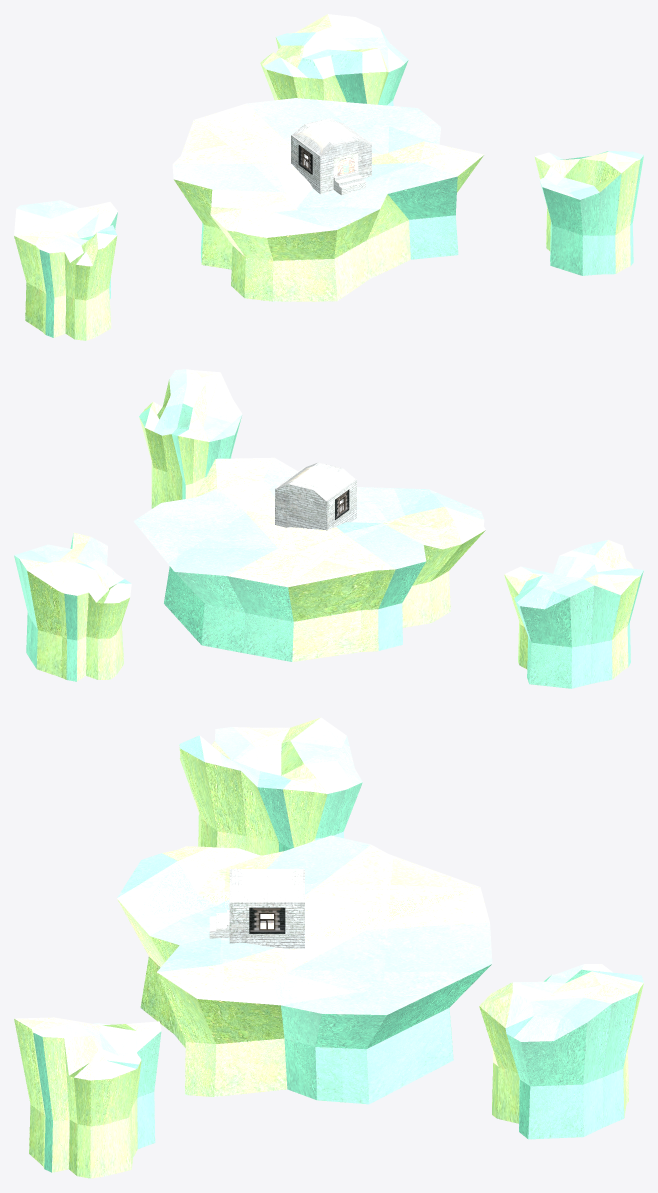
File: main.glb
The picture shows the model from 3 angles, top to bottom: view 1: azimuth 30°, elevation 25°; view 2: azimuth 150°, elevation 25°; view 3: azimuth 270°, elevation 25°; orthographic projection. The views are drawn at different scales.
Visible parts, largest first — view 1: main_grass, main_grass.001, main_grass.002, main_room; view 2: main_grass, main_grass.001, main_grass.002, main_room; view 3: main_grass, main_grass.001, main_grass.002, main_room.
Boxes of the visible parts, bbox=[...] form: main_grass: bbox=[172, 98, 484, 301]; main_grass.001: bbox=[14, 14, 408, 340]; main_grass.002: bbox=[535, 151, 643, 275]; main_room: bbox=[291, 118, 371, 195]; main_grass: bbox=[133, 457, 485, 661]; main_grass.001: bbox=[14, 532, 643, 688]; main_grass.002: bbox=[139, 369, 242, 508]; main_room: bbox=[275, 462, 356, 530]; main_grass: bbox=[117, 835, 492, 1104]; main_grass.001: bbox=[179, 717, 643, 1139]; main_grass.002: bbox=[14, 1017, 161, 1178]; main_room: bbox=[209, 869, 304, 948].
Size of the model in its own units: 448 by 96.52 by 348.
8 materials, 1 textured.
